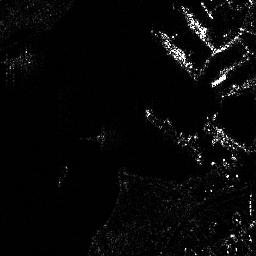ship: (158, 30, 192, 68), (182, 5, 208, 38), (210, 72, 228, 87)
